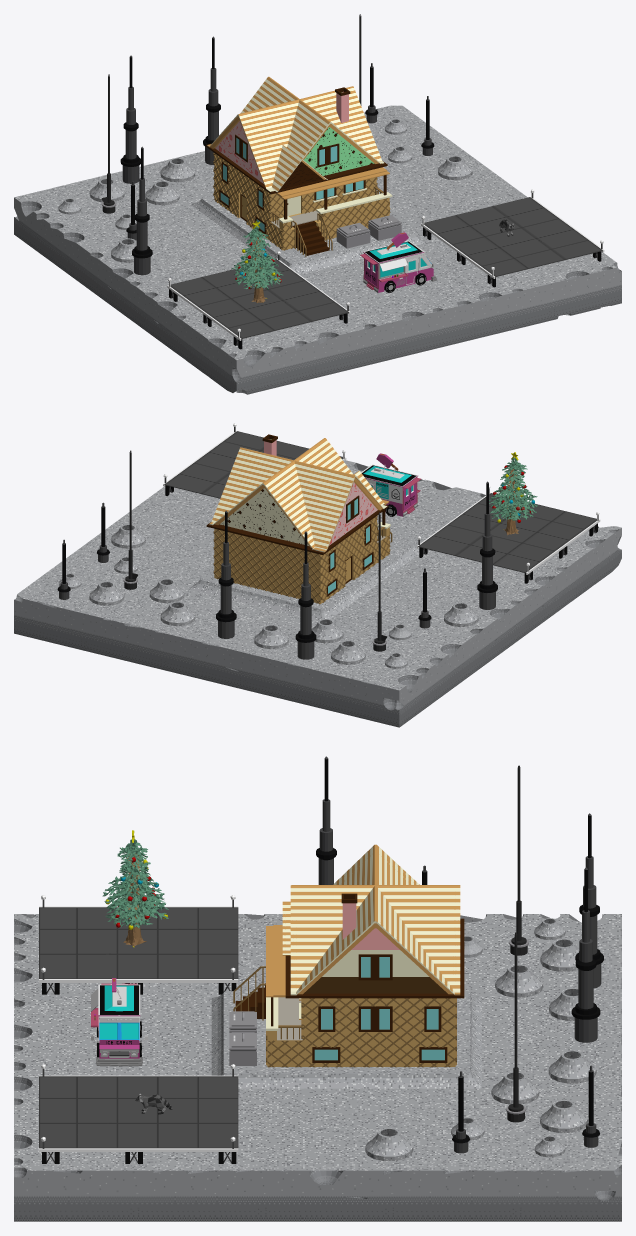
3 renders of one model, top to bottom at view 1: azimuth 30°, elevation 25°; view 2: azimuth 150°, elevation 25°; view 3: azimuth 270°, elevation 25°, orthographic. The views are drawn at different scales.
Parts seen in each view (by area): view 1: Cube.027, Cube.1102, Cube.026, Cube.025, Cube.028, VEHICLES_ICE_CREAM_TRUCK, OBJRANDOM_CHRISTMAS_TREE, Cylinder.020, Cylinder.021, Cylinder.017, Cube.029, Cube.030 (+4 smaller); view 2: Cube.027, Cube.1102, Cube.025, Cube.028, Cube.026, VEHICLES_ICE_CREAM_TRUCK, OBJRANDOM_CHRISTMAS_TREE, Cylinder.020, Cylinder.021, Cylinder.017, Cylinder.031, Cylinder.028 (+8 smaller); view 3: Cube.027, Cube.1102, Cube.026, Cube.025, Cube.028, VEHICLES_ICE_CREAM_TRUCK, OBJRANDOM_CHRISTMAS_TREE, Cylinder.017, Cylinder.020, Cylinder.021, Cylinder.033, Cylinder.031 (+10 smaller).
Boxes of the visible parts, x1,y1,x2,y2 form: Cube.027: (14, 105, 621, 394); Cube.1102: (205, 76, 392, 256); Cube.026: (421, 189, 604, 287); Cube.025: (167, 251, 350, 349); Cube.028: (191, 195, 424, 274); VEHICLES_ICE_CREAM_TRUCK: (360, 232, 437, 292); OBJRANDOM_CHRISTMAS_TREE: (231, 221, 283, 302); Cylinder.020: (120, 55, 140, 183); Cylinder.021: (132, 146, 152, 275); Cylinder.017: (203, 36, 220, 164); Cube.029: (336, 222, 370, 248); Cube.030: (368, 215, 401, 240); Cube.027: (14, 460, 621, 727); Cube.1102: (206, 434, 392, 604); Cube.025: (417, 485, 600, 583); Cube.028: (190, 538, 419, 620); Cube.026: (163, 423, 346, 498); VEHICLES_ICE_CREAM_TRUCK: (361, 453, 420, 516); OBJRANDOM_CHRISTMAS_TREE: (489, 452, 537, 535); Cylinder.020: (295, 531, 316, 659); Cylinder.021: (477, 481, 497, 609); Cylinder.017: (216, 510, 236, 638); Cylinder.031: (89, 581, 124, 605); Cylinder.028: (331, 640, 365, 664); Cube.027: (14, 914, 621, 1221); Cube.1102: (233, 844, 464, 1067); Cube.026: (39, 1064, 238, 1163); Cube.025: (39, 895, 238, 994); Cube.028: (211, 991, 481, 1088); VEHICLES_ICE_CREAM_TRUCK: (91, 978, 147, 1066); OBJRANDOM_CHRISTMAS_TREE: (102, 830, 168, 947); Cylinder.017: (571, 867, 600, 1042); Cylinder.020: (575, 813, 603, 988); Cylinder.021: (316, 756, 336, 884); Cylinder.033: (365, 1128, 413, 1160); Cylinder.031: (540, 1100, 587, 1132).
Bounding box in the file's own units: 4000 × 1822 × 4000.
41 materials, 6 textured.
